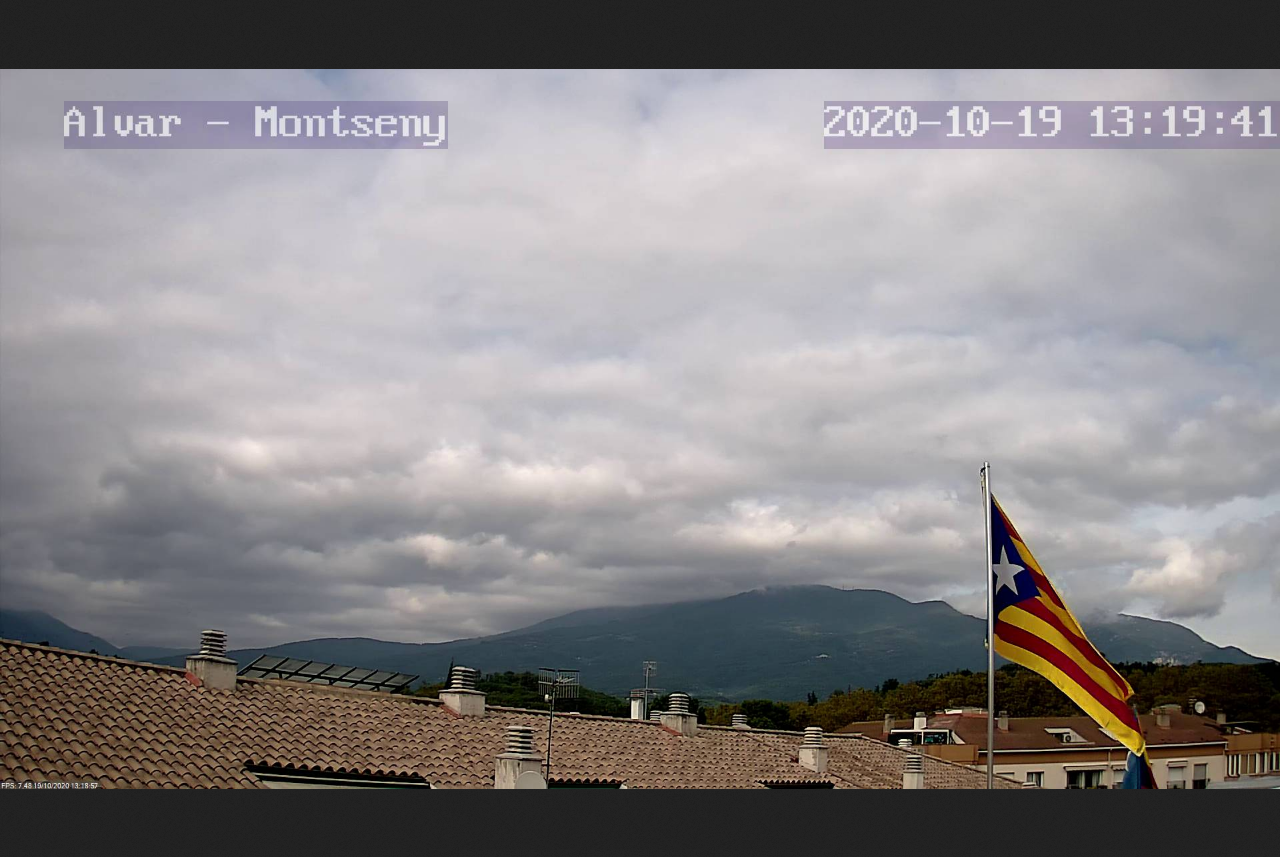maybe: (975, 477, 1158, 765)
